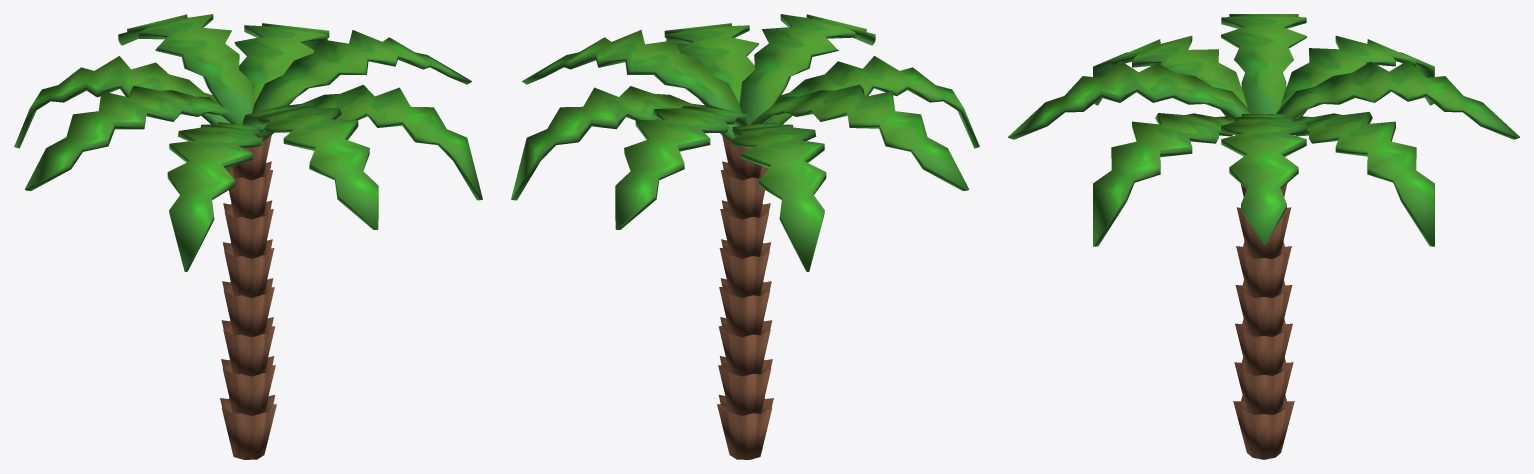
File: palmtree.dae
3 renders of one model, left to right at view 1: azimuth 30°, elevation 25°; view 2: azimuth 150°, elevation 25°; view 3: azimuth 270°, elevation 25°, orthographic.
Visible parts, largest first — view 1: tree-col; view 2: tree-col; view 3: tree-col.
Boxes of the visible parts, bbox=[...] form: tree-col: bbox=[14, 14, 482, 459]; tree-col: bbox=[511, 14, 979, 459]; tree-col: bbox=[1008, 14, 1519, 459].
Size of the model in its own units: 17.96 by 17.96 by 14.49.
